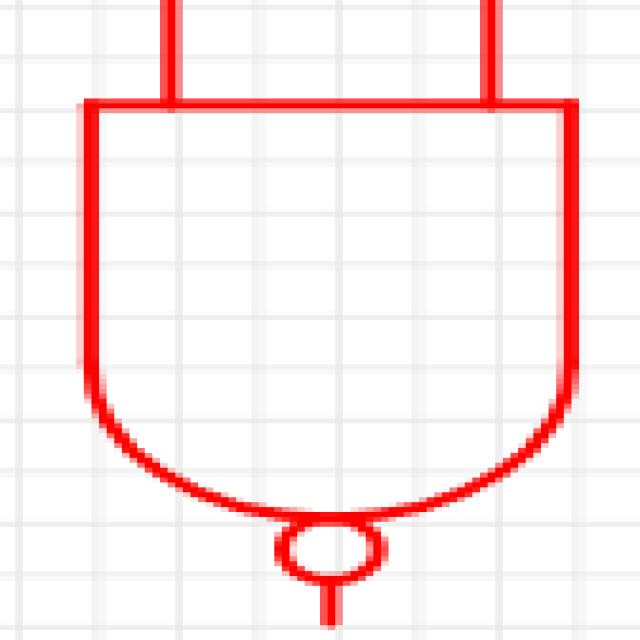nand: (61, 0, 617, 630)
